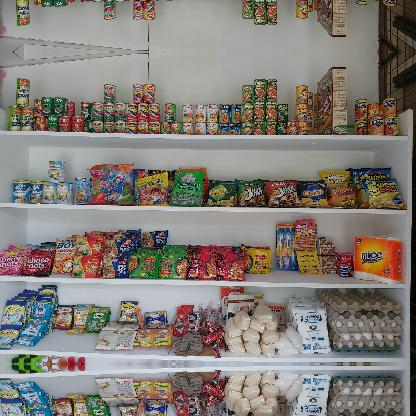Koko-Krunch: (317, 67, 347, 135), (317, 0, 348, 38)
